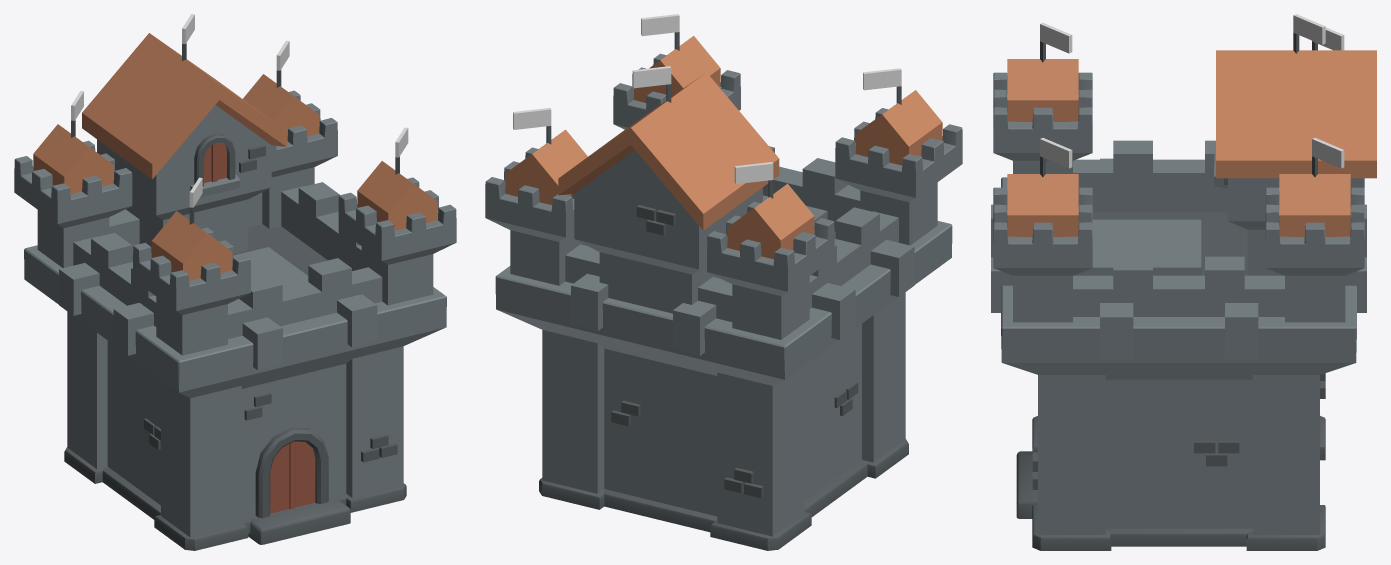
Rendered from castle.gltf.glb.
3 renders of one model, left to right at view 1: azimuth 30°, elevation 25°; view 2: azimuth 150°, elevation 25°; view 3: azimuth 270°, elevation 25°, orthographic. The views are drawn at different scales.
Visible parts, largest first — view 1: castle; view 2: castle; view 3: castle.
Boxes of the visible parts, x1,y1,x2,y2 form: castle: [14, 14, 456, 550]; castle: [485, 14, 962, 550]; castle: [991, 14, 1376, 550].
Size of the model in its own units: 59140 by 82991 by 60700.
